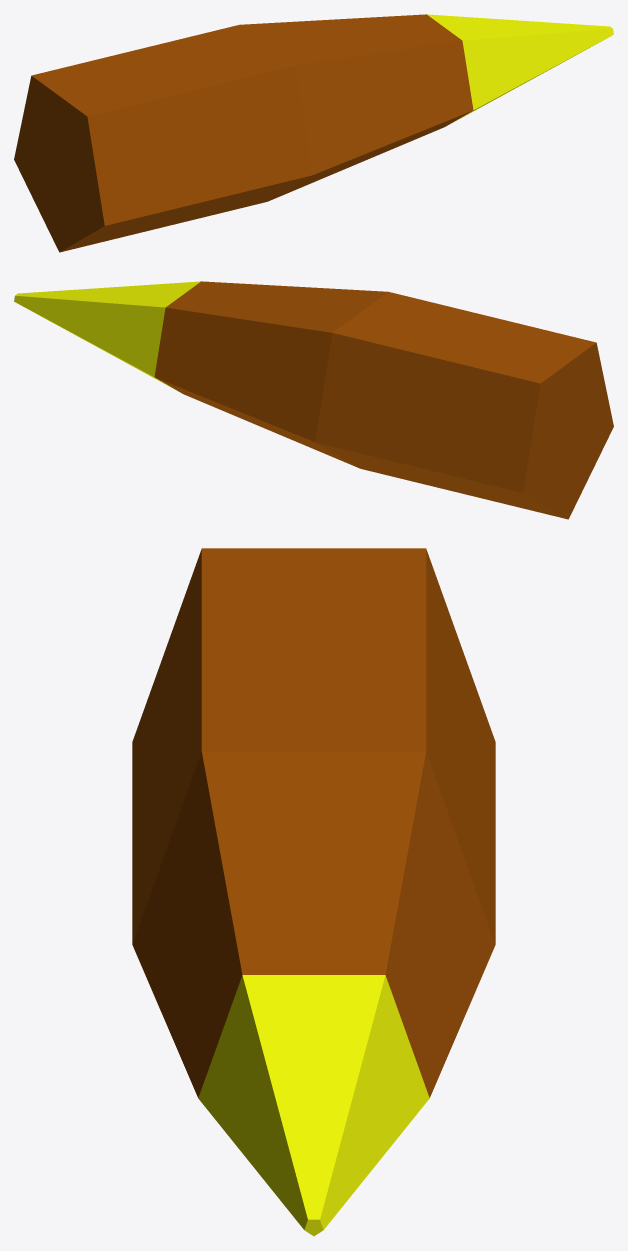
The model's file is Musket bullet yellow.FBX.
3 views of the same model, one above another, from view 1: azimuth 30°, elevation 25°; view 2: azimuth 150°, elevation 25°; view 3: azimuth 270°, elevation 25° (orthographic). The views are drawn at different scales.
Parts seen in each view (by area): view 1: Musket bullet, Musket byllet tip; view 2: Musket bullet, Musket byllet tip; view 3: Musket bullet, Musket byllet tip.
Boxes of the visible parts, x1=… form: Musket bullet: x1=14, y1=14, x2=473, y2=252; Musket byllet tip: x1=427, y1=14, x2=613, y2=123; Musket bullet: x1=154, y1=281, x2=613, y2=519; Musket byllet tip: x1=14, y1=281, x2=200, y2=390; Musket bullet: x1=132, y1=548, x2=495, y2=1097; Musket byllet tip: x1=198, y1=975, x2=429, y2=1236.
Size of the model in its own units: 16.4 by 4.44 by 4.67.
